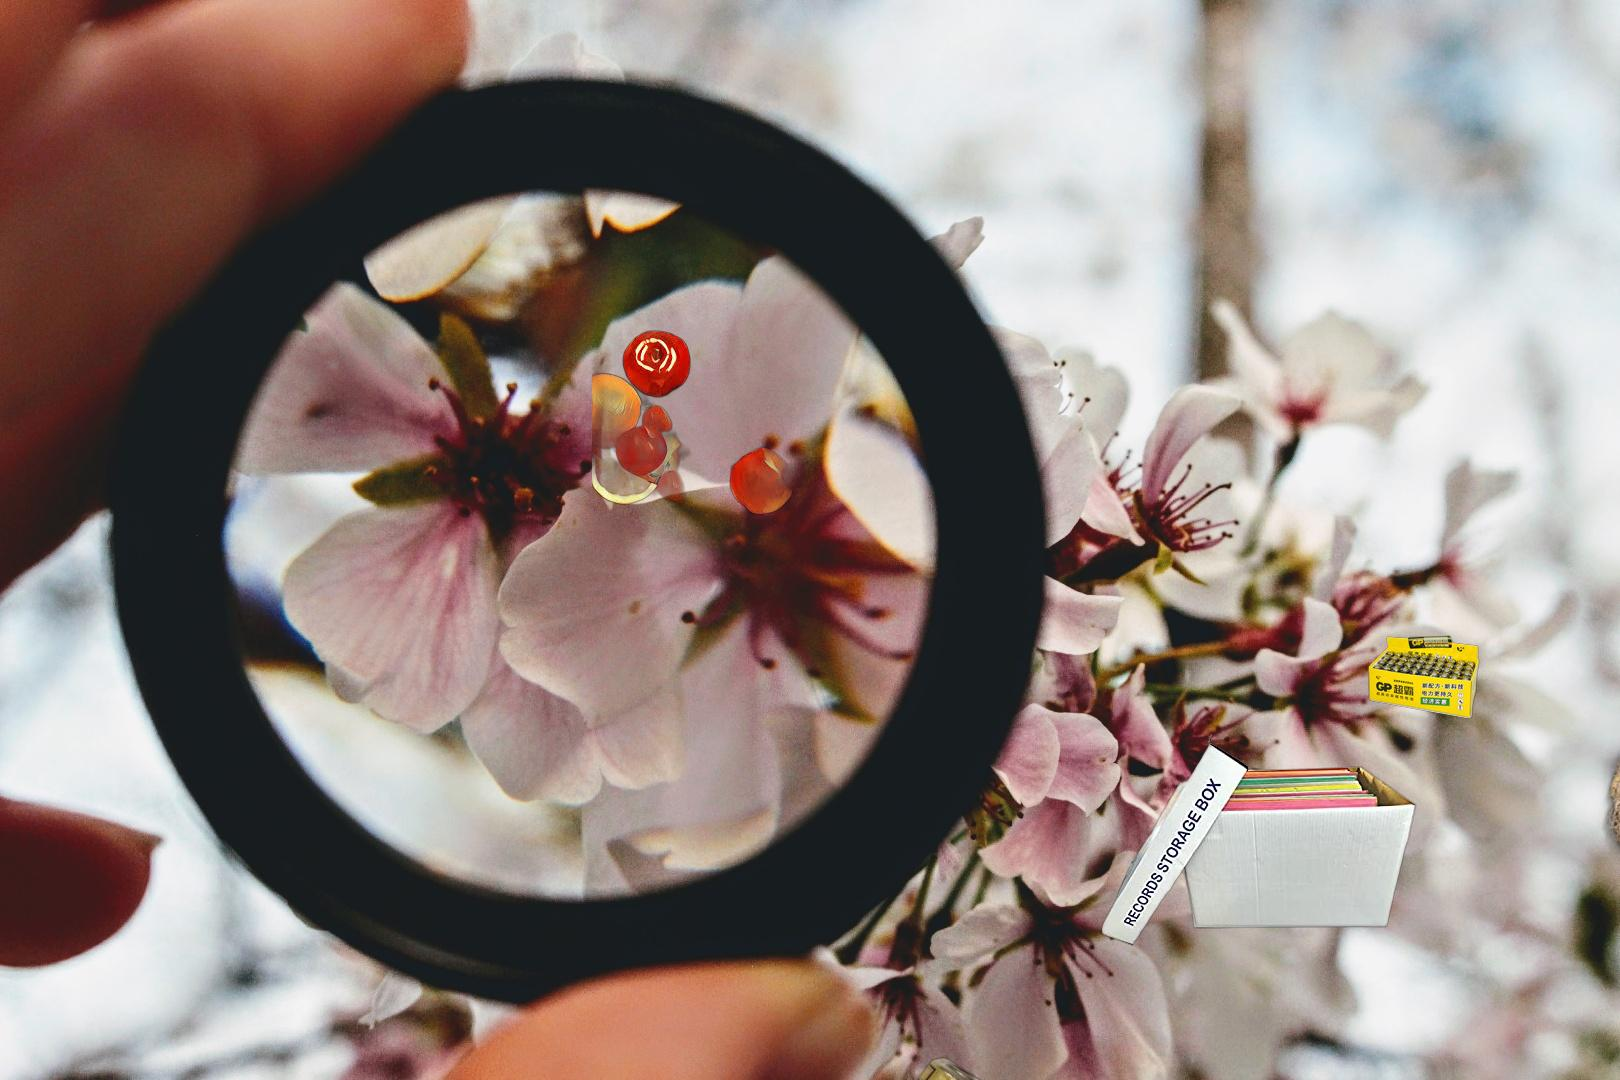battery: (1364, 633, 1483, 721)
biological: (592, 303, 817, 528)
metal-cans: (662, 1055, 1012, 1080)
trashbox-cardboard: (1531, 14, 1620, 968), (1100, 730, 1417, 947)
